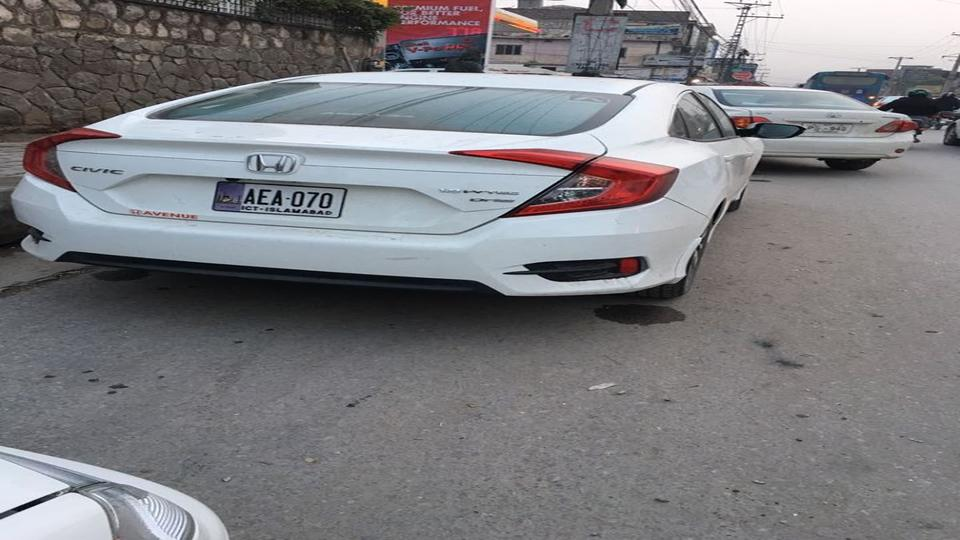NumberPlate: (204, 172, 358, 231)
